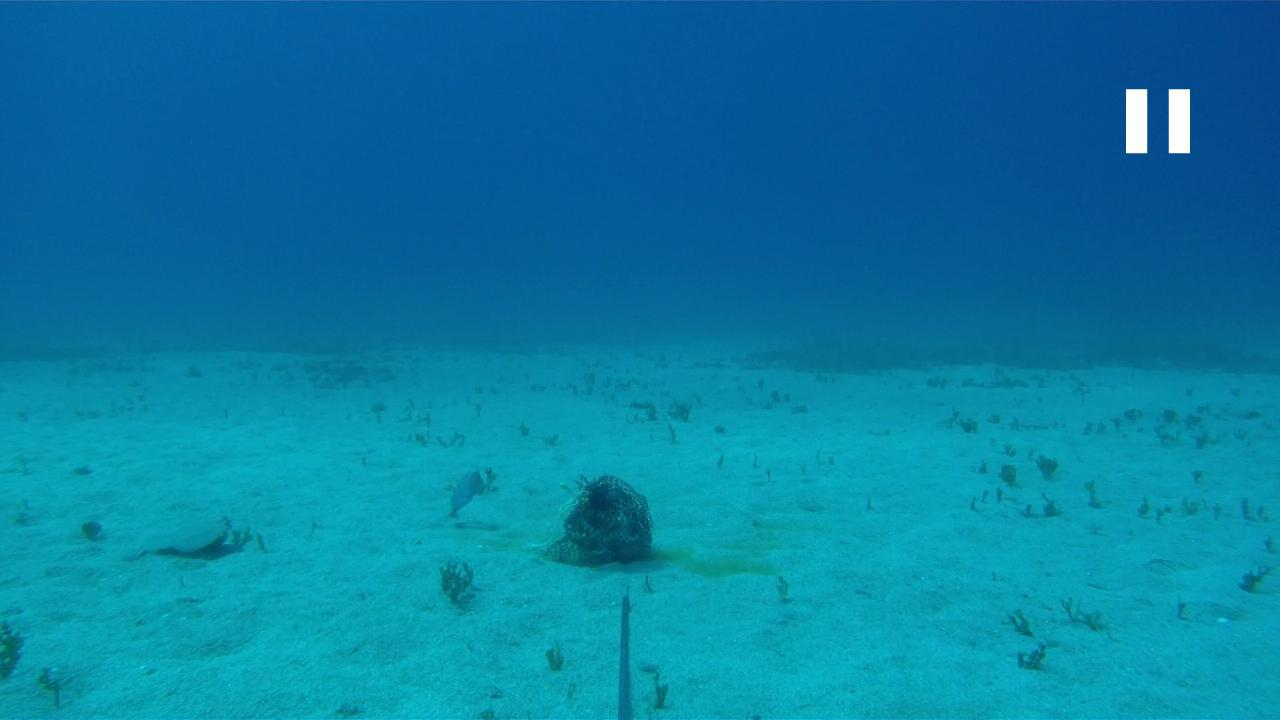bothus: (115, 510, 230, 562)
